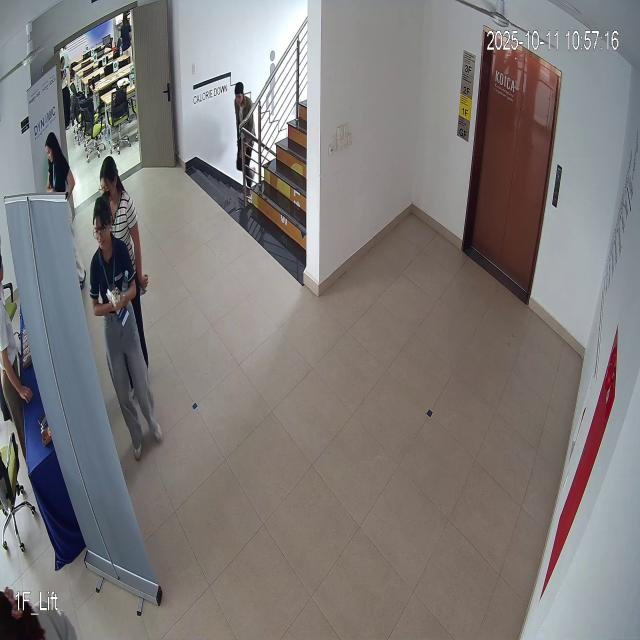face: (86, 190, 121, 260)
